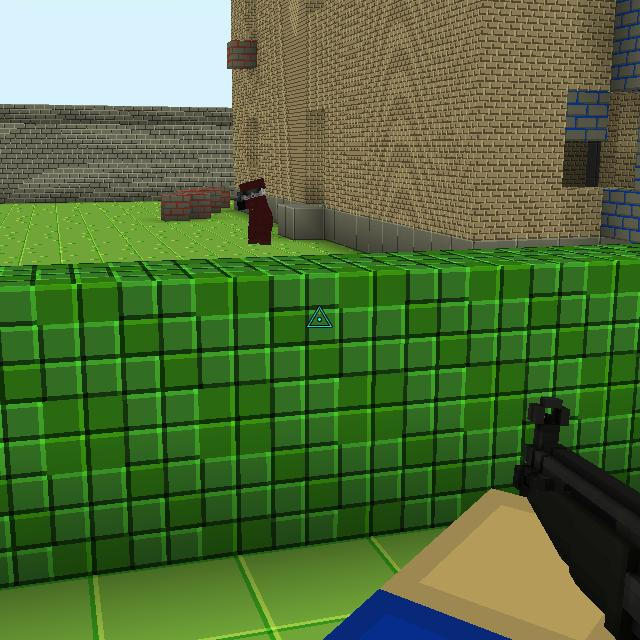enemy: (234, 175, 274, 246)
